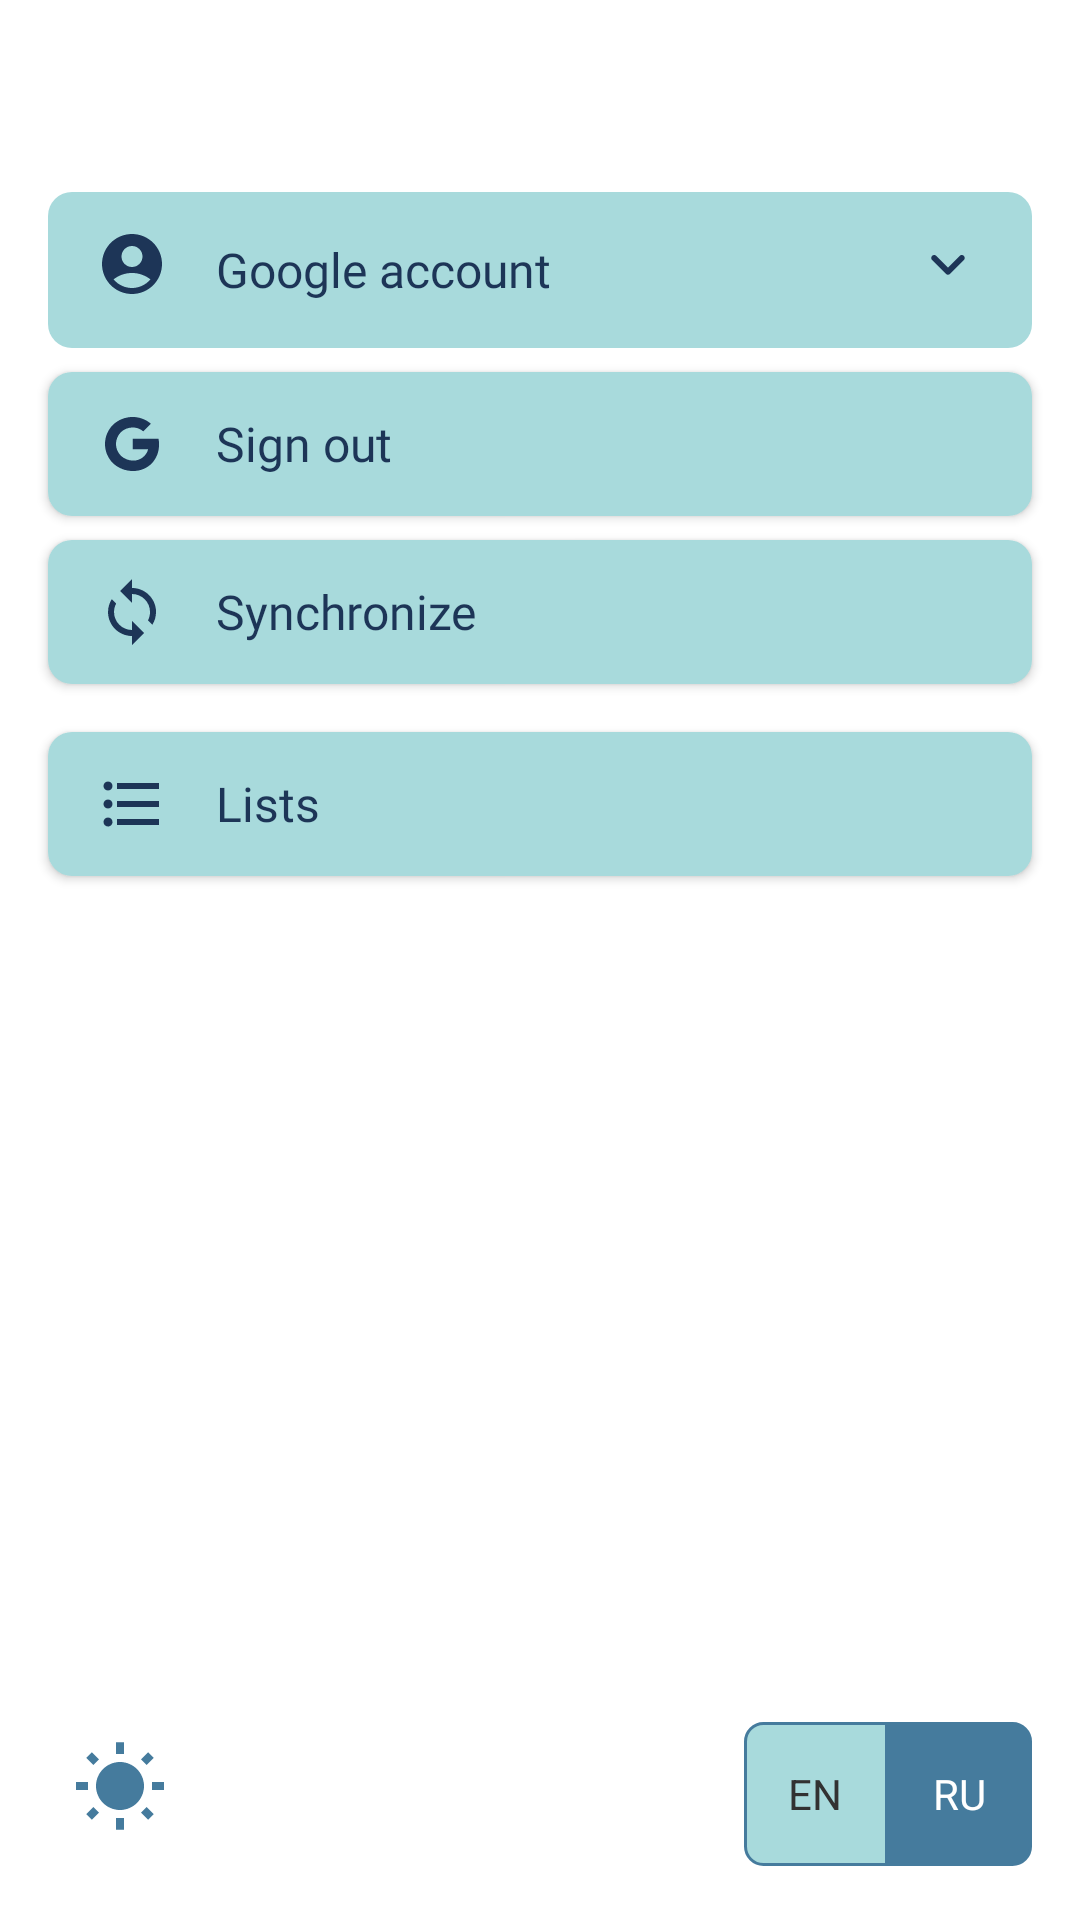

Icon bounding boxes for this 1080 × 1920 phone screenshot, format bbox=(x1, y1, x2, y2):
account select action: bbox=(931, 255, 965, 275)
switch theme: bbox=(76, 1742, 164, 1830)
